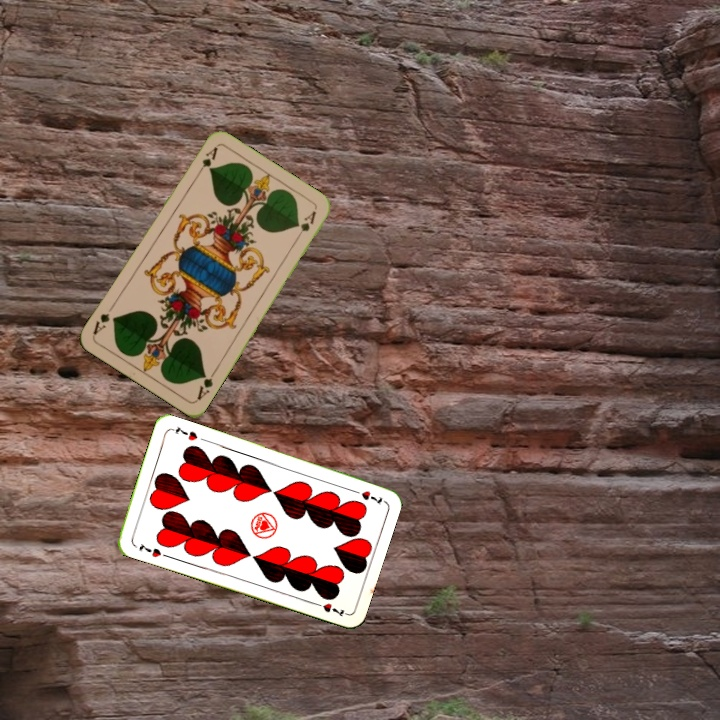GA: (192, 142, 220, 179), (193, 366, 219, 403)
H7: (347, 485, 386, 507), (135, 540, 164, 560)
